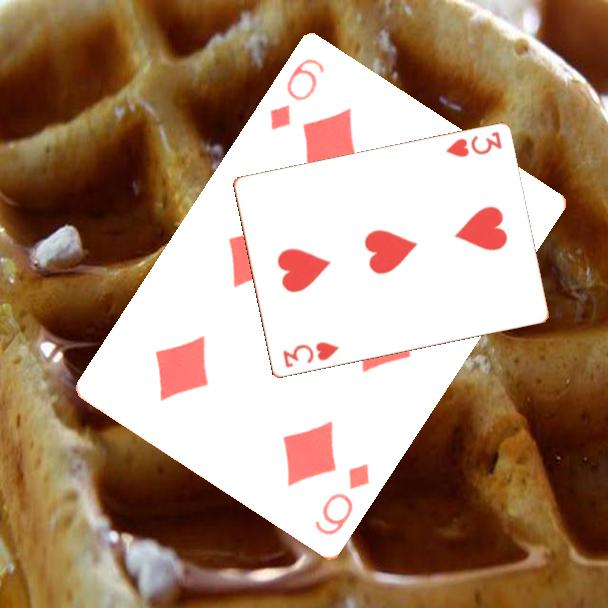d06: (311, 460, 374, 539), (266, 55, 328, 134)
h03: (279, 338, 342, 371), (441, 128, 505, 160)
